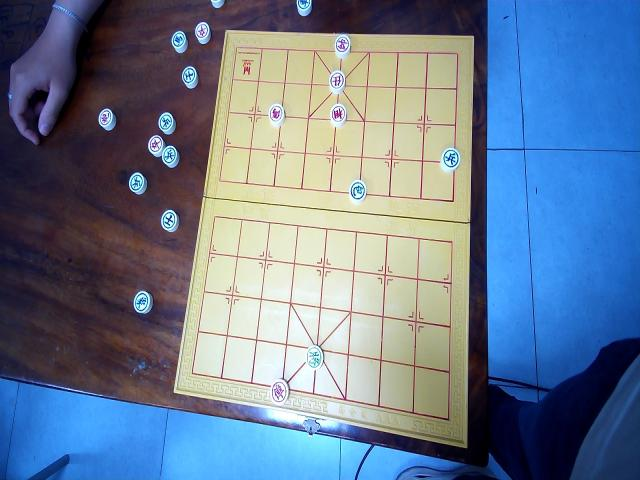piece: (269, 377, 289, 405), (132, 289, 152, 315), (440, 147, 460, 172), (161, 208, 179, 232), (128, 171, 146, 195), (98, 107, 116, 131), (306, 345, 324, 369), (349, 179, 367, 203), (161, 145, 179, 168), (334, 34, 350, 59), (194, 20, 210, 45), (158, 111, 175, 134), (329, 69, 345, 93), (330, 103, 346, 127), (268, 102, 284, 126), (148, 134, 165, 156), (182, 65, 198, 88), (171, 30, 187, 53), (296, 0, 312, 16), (210, 0, 224, 8)
